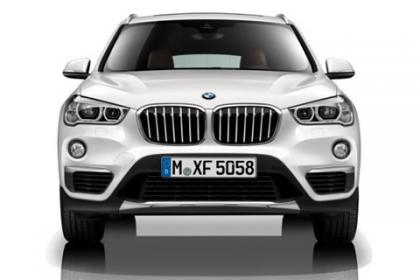bmw: (52, 6, 362, 246)
